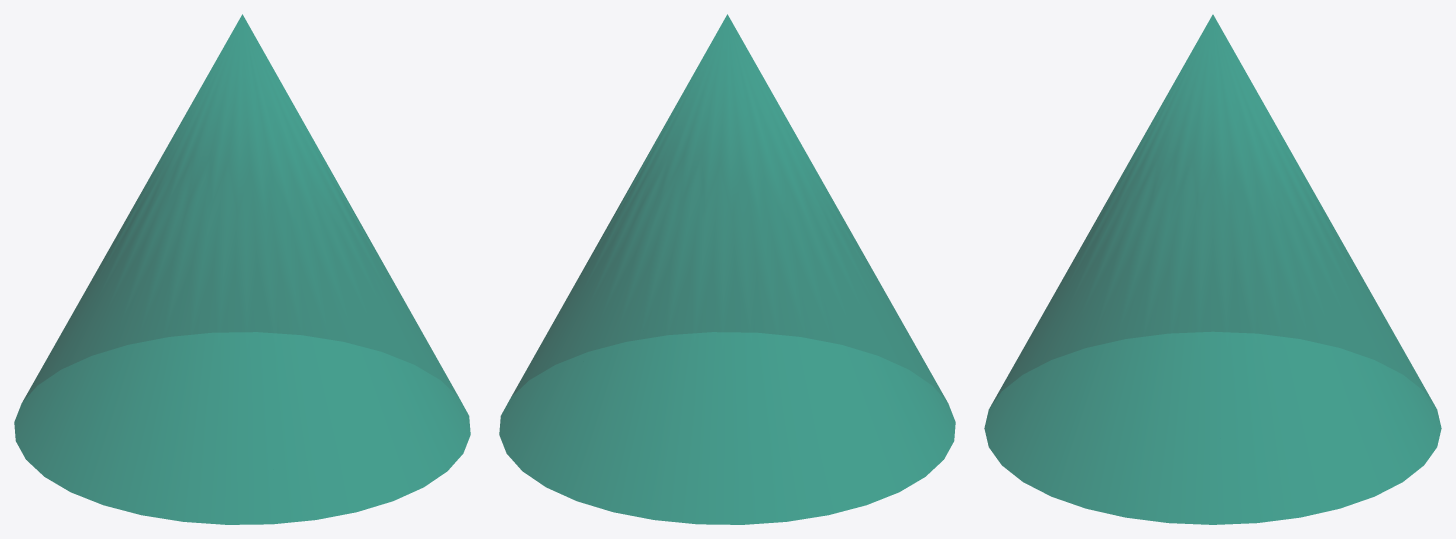
The picture shows the model from 3 angles, left to right: view 1: azimuth 30°, elevation 25°; view 2: azimuth 150°, elevation 25°; view 3: azimuth 270°, elevation 25°; orthographic projection.
Parts seen in each view (by area): view 1: Cone_2; view 2: Cone_2; view 3: Cone_2.
Boxes of the visible parts, <box> form: Cone_2: <box>14,14,470,524</box>; Cone_2: <box>499,14,955,524</box>; Cone_2: <box>984,14,1441,524</box>.
Size of the model in its own units: 2 by 2 by 2.
